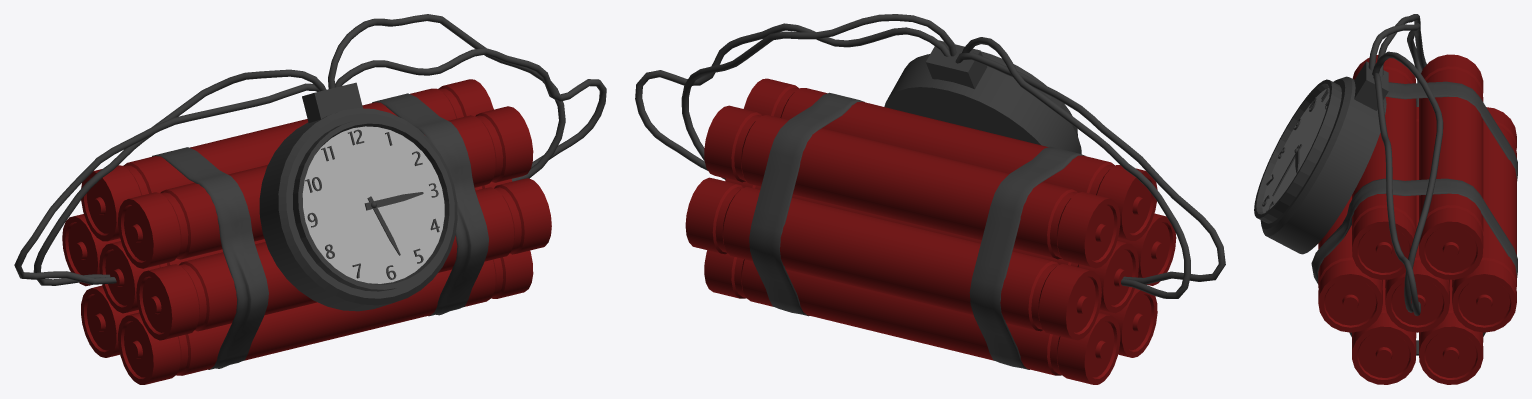
The picture shows the model from 3 angles, left to right: view 1: azimuth 30°, elevation 25°; view 2: azimuth 150°, elevation 25°; view 3: azimuth 270°, elevation 25°; orthographic projection. The views are drawn at different scales.
Visible parts, largest first — view 1: SM_C4; view 2: SM_C4; view 3: SM_C4.
Boxes of the visible parts, x1,y1,x2,y2 form: SM_C4: (14, 14, 606, 384); SM_C4: (635, 14, 1225, 384); SM_C4: (1254, 14, 1517, 384).
Size of the model in its own units: 75.18 by 35.9 by 32.3.
